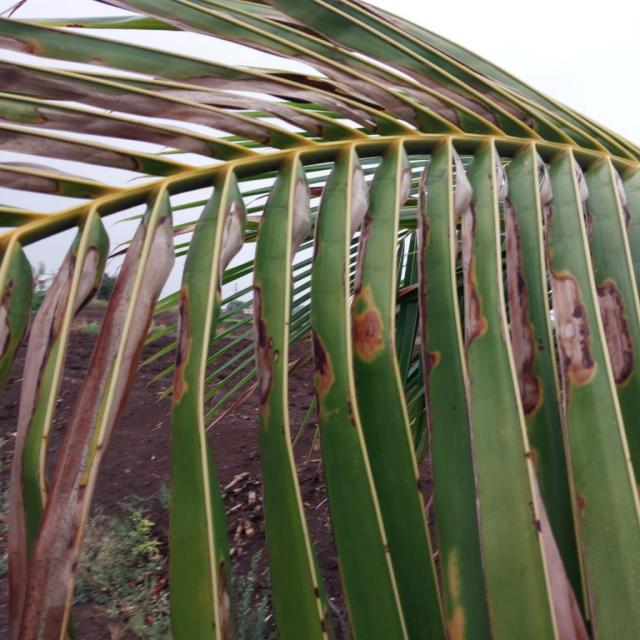gray leaf spot: (9, 15, 640, 640)
